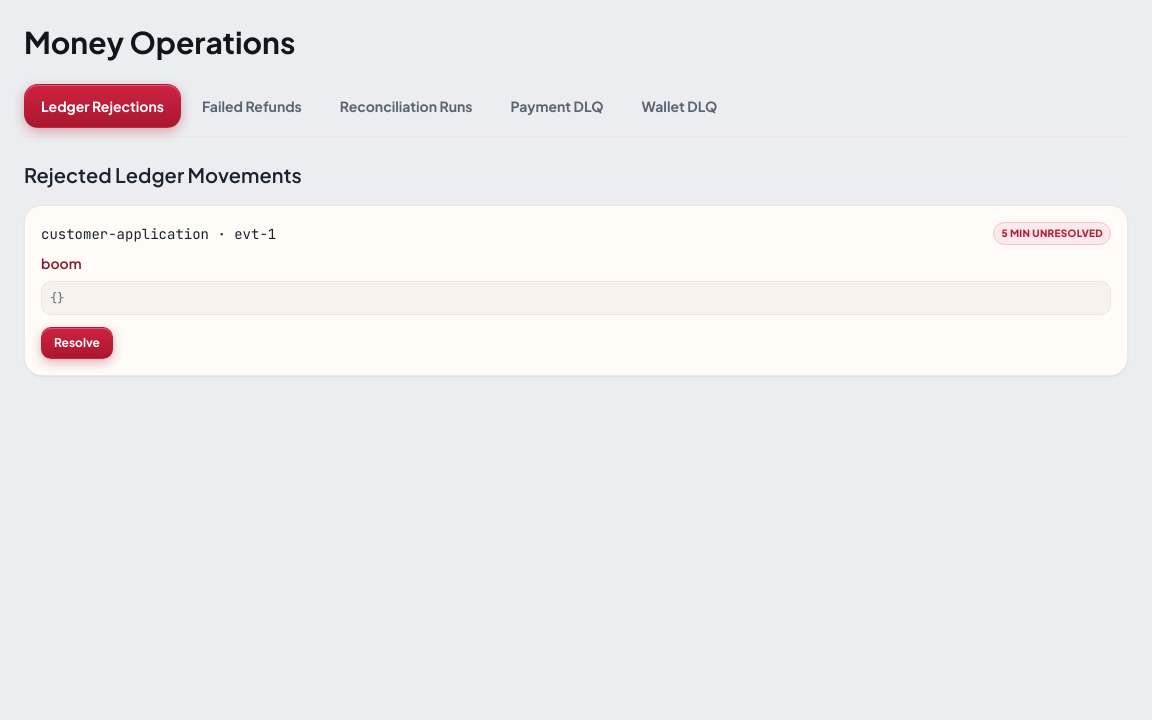
Test: OperationsPage › keeps a rejected movement open and shows the mutation failure
Click the button "Resolve" at point(77, 343), box [41,327,113,359]
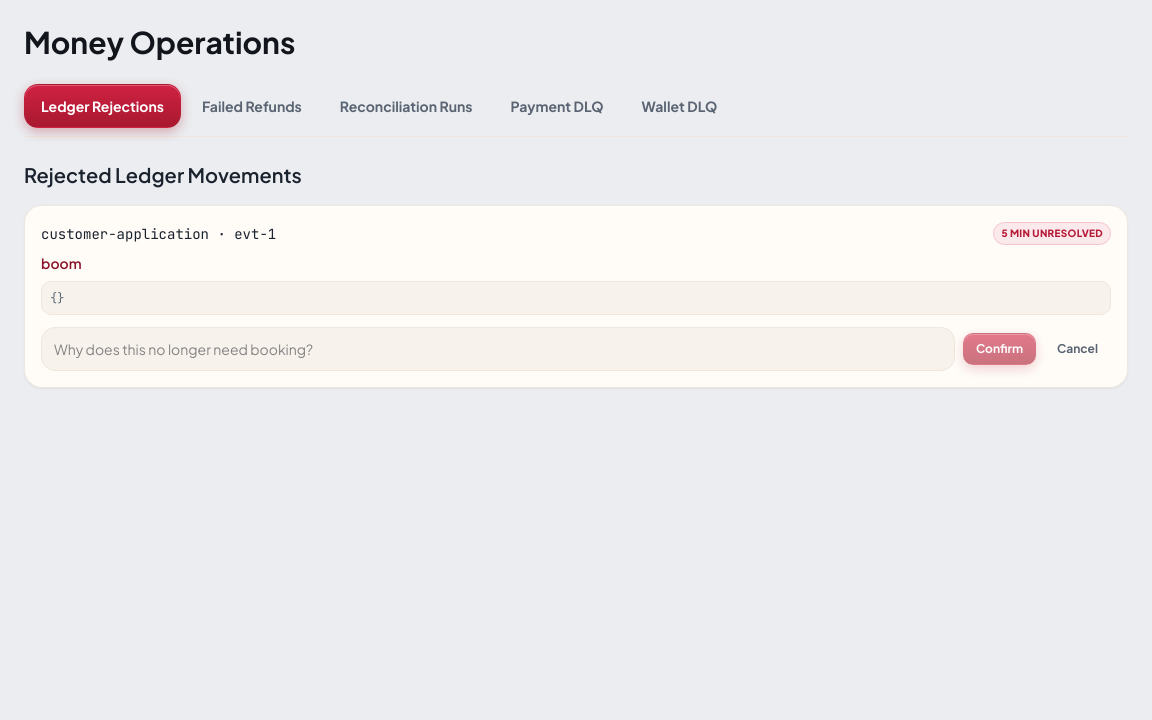
Type "confirmed in the reconciliation record" into the field with placeholder "Why does this no longer need booking?" at point(498, 349), box [41,327,955,371]
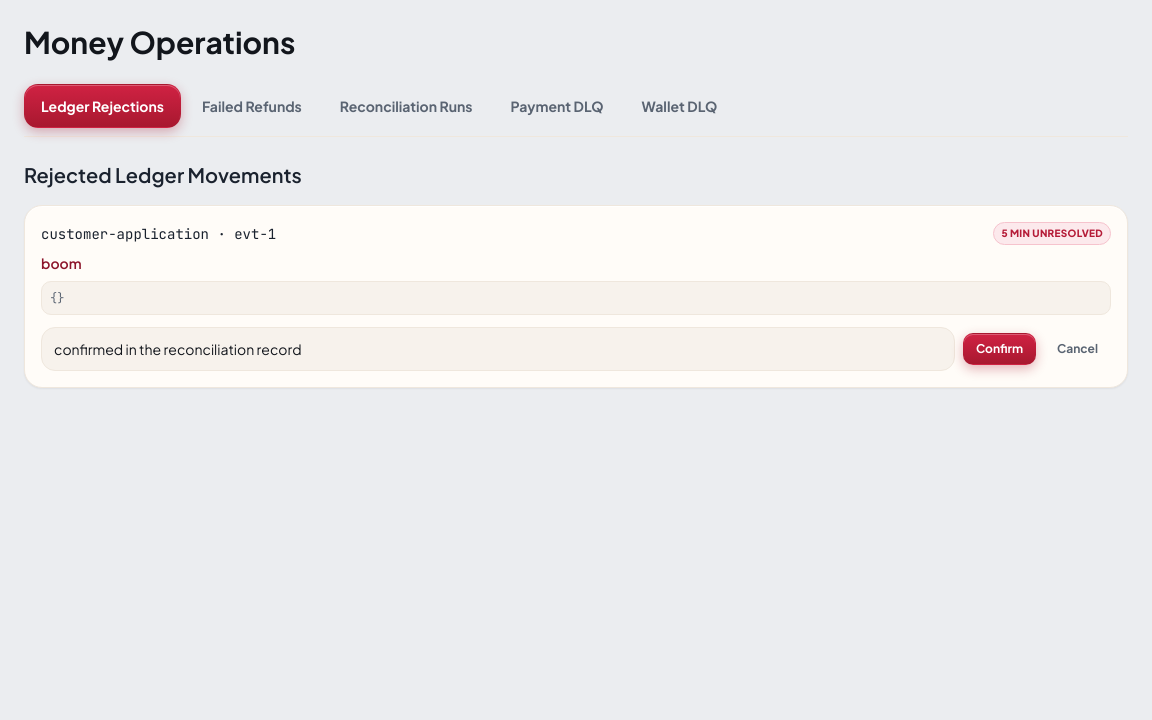
Click the button "Confirm" at point(1000, 349), box [963,333,1036,365]
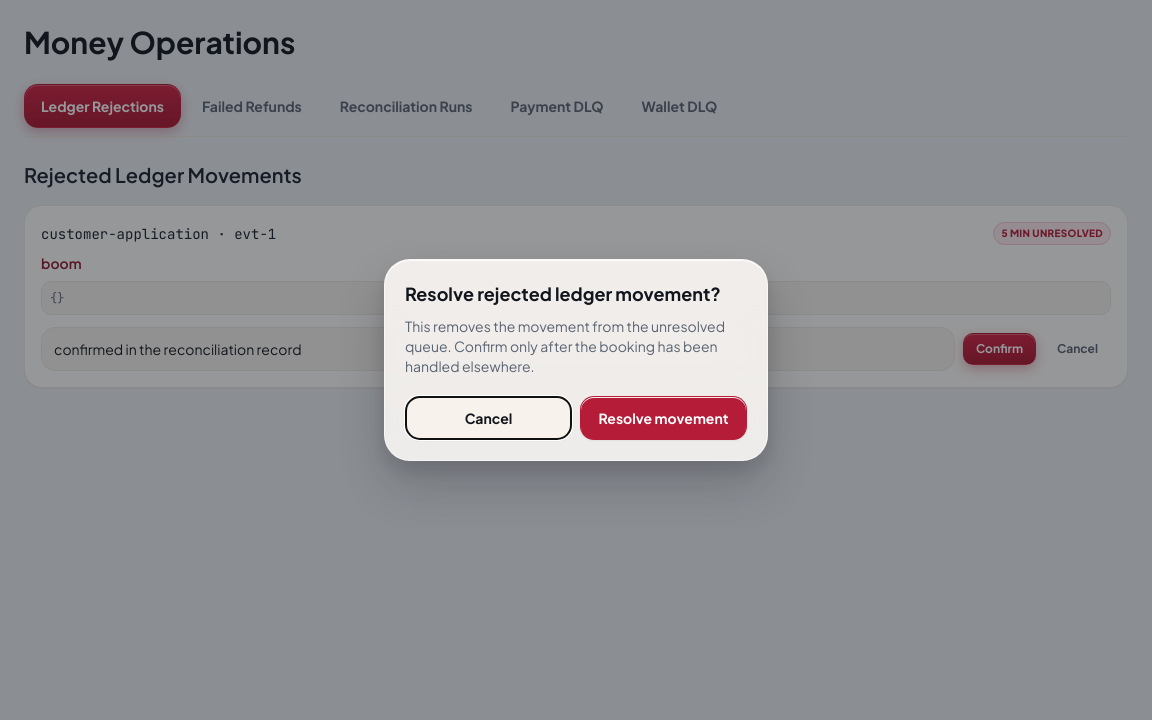
Click the button "Resolve movement" at point(664, 418), box [580,396,747,440]
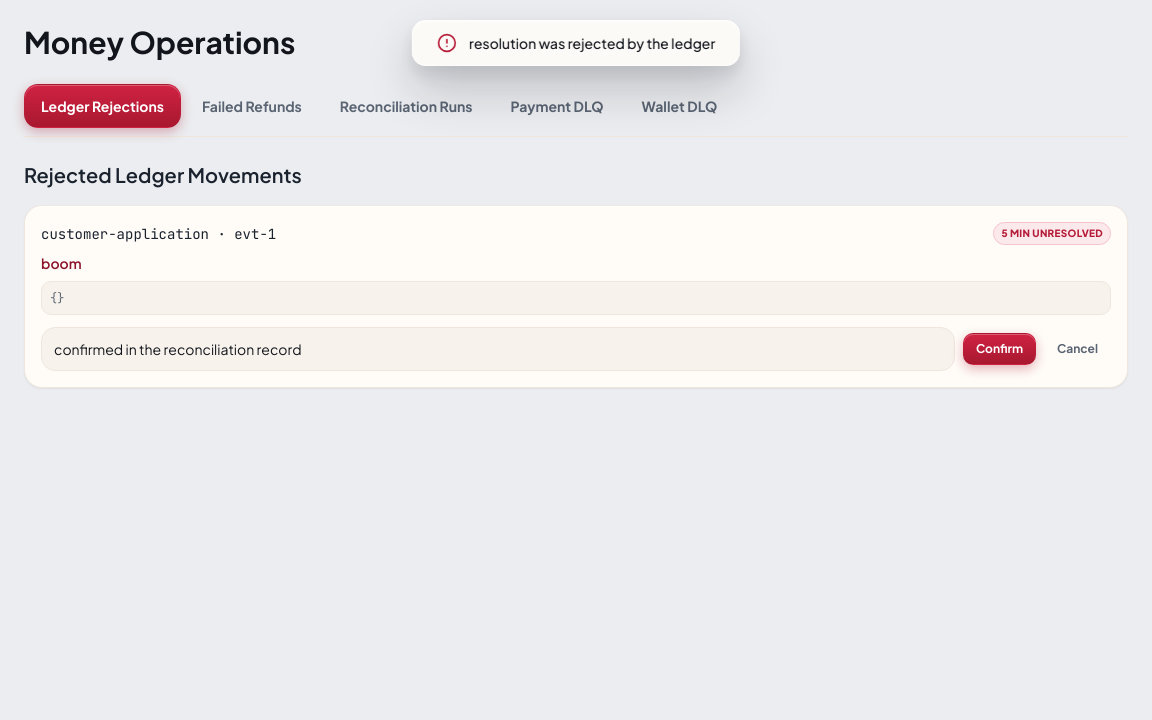
Expected: the text "resolution was rejected by the ledger" is shown, [469,33,715,53]
